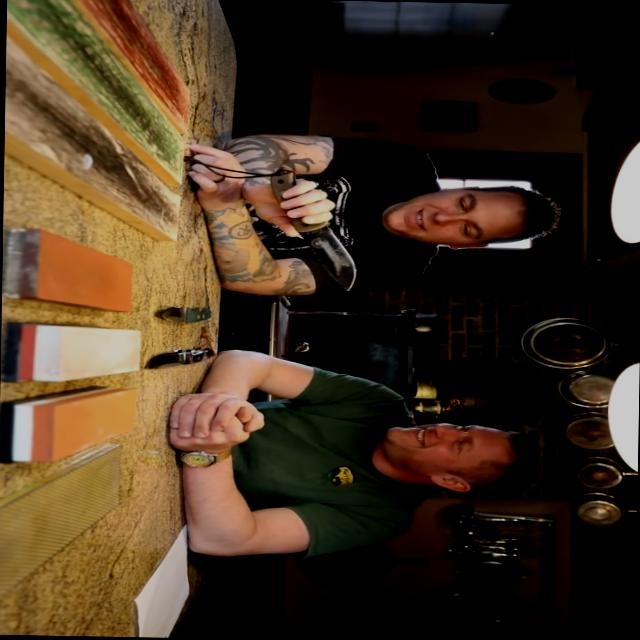knife: (271, 187, 375, 299)
